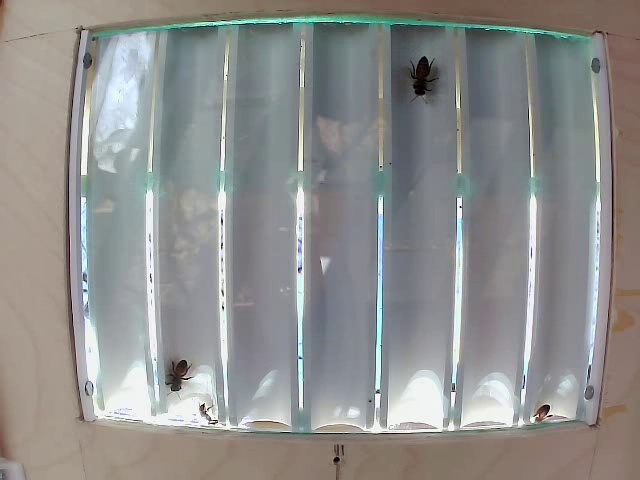bee: (399, 44, 440, 106), (152, 345, 188, 400)
